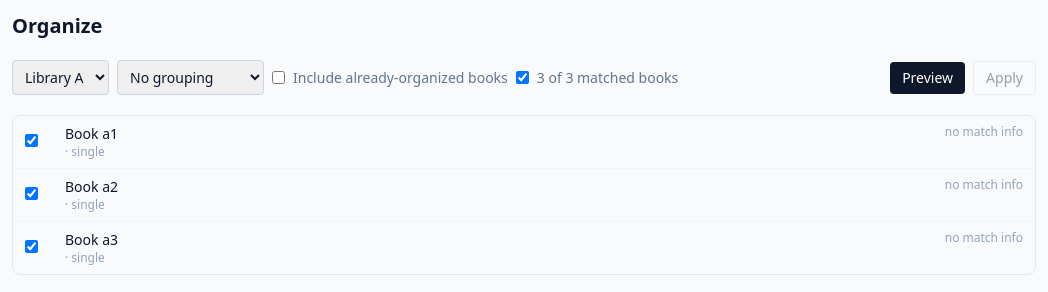
Test case: OrganizePage bulk selection › toggles every book with the top-level select-all checkbox
The width and height of the screenshot is (1048, 292).
Expected: the text "3 of 3 matched books" is shown, [537,68,678,88]
Click the checkbox named "select all books". click: click(522, 78)
box: [516,71,529,84]
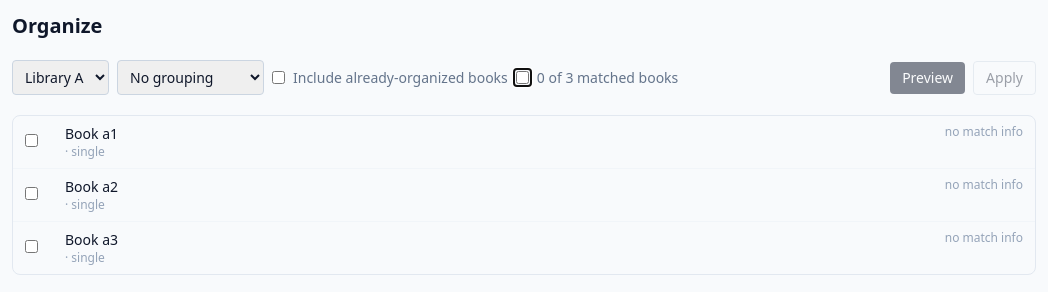
Expected: the text "0 of 3 matched books" is shown, [537,68,678,88]
Expected: the checkbox named "select book a2" is not checked, [25,187,38,200]
Click the checkbox named "select all books". click: click(522, 78)
box: [516,71,529,84]
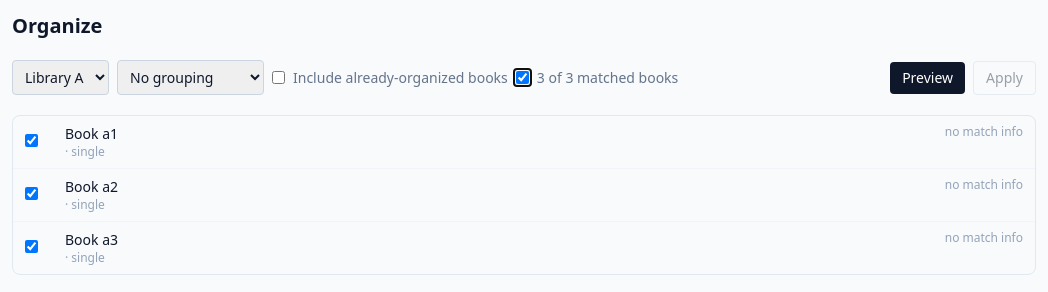
Expected: the text "3 of 3 matched books" is shown, [537,68,678,88]
